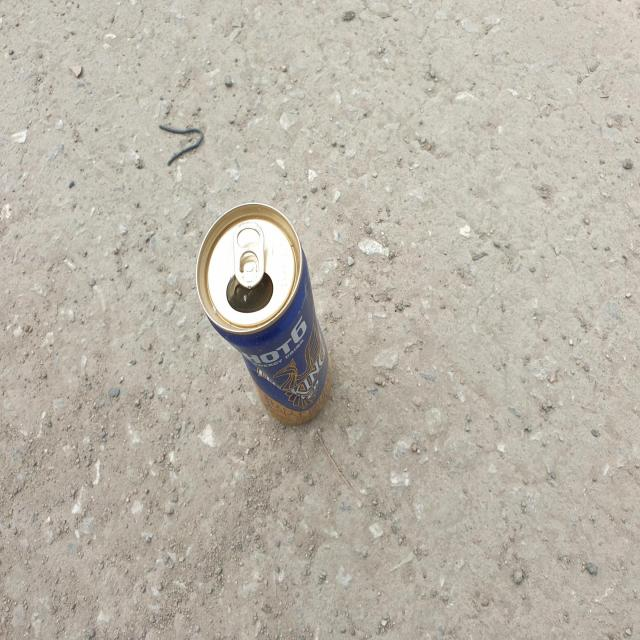can: (196, 202, 332, 424)
